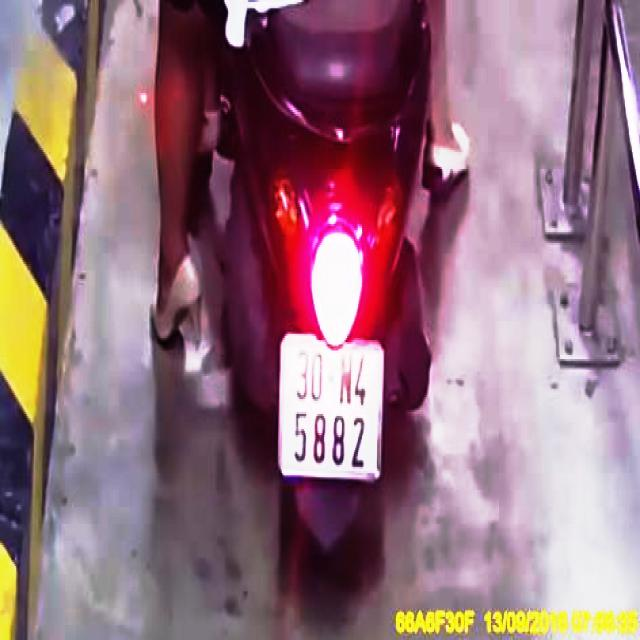license_plate: (283, 340, 383, 475)
